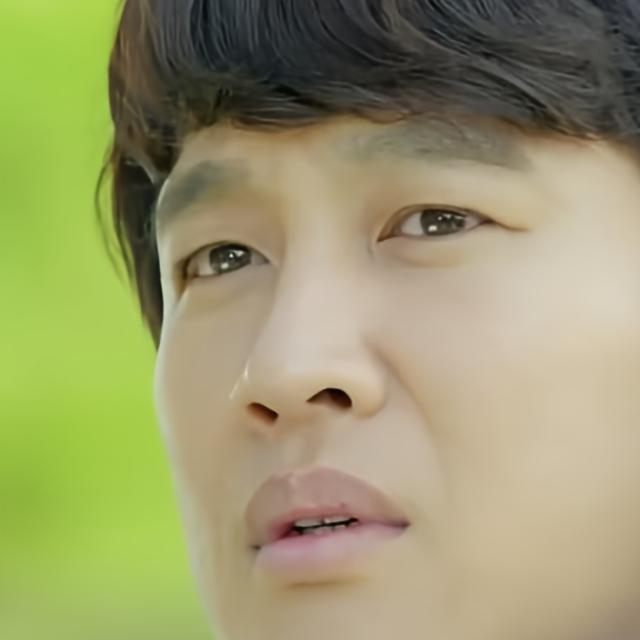sad: (154, 82, 639, 640)
